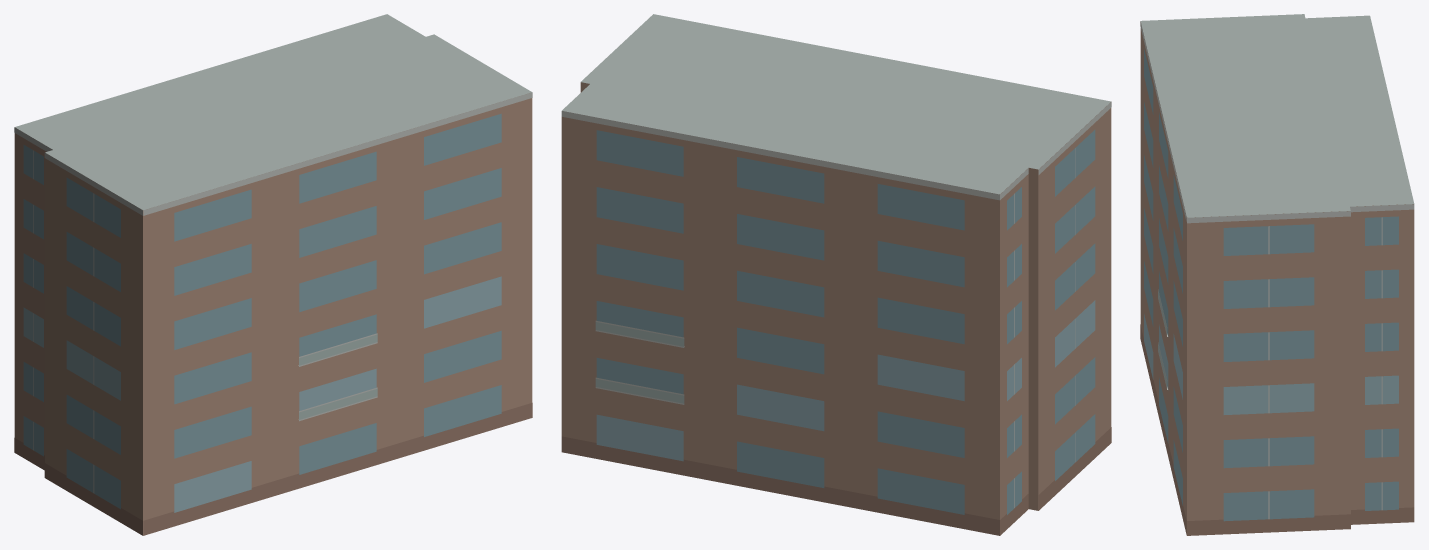
The model's file is survey-upis-32627961.glb.
The picture shows the model from 3 angles, left to right: view 1: azimuth 30°, elevation 25°; view 2: azimuth 150°, elevation 25°; view 3: azimuth 270°, elevation 25°; orthographic projection. The views are drawn at different scales.
Parts seen in each view (by area): view 1: survey-upis-32627961.tmp; view 2: survey-upis-32627961.tmp; view 3: survey-upis-32627961.tmp.
Boxes of the visible parts, left/top/right/bottom form: survey-upis-32627961.tmp: left=14, top=14, right=532, bottom=535; survey-upis-32627961.tmp: left=561, top=14, right=1111, bottom=535; survey-upis-32627961.tmp: left=1140, top=14, right=1414, bottom=535.
Size of the model in its own units: 19.24 by 14 by 10.93.
